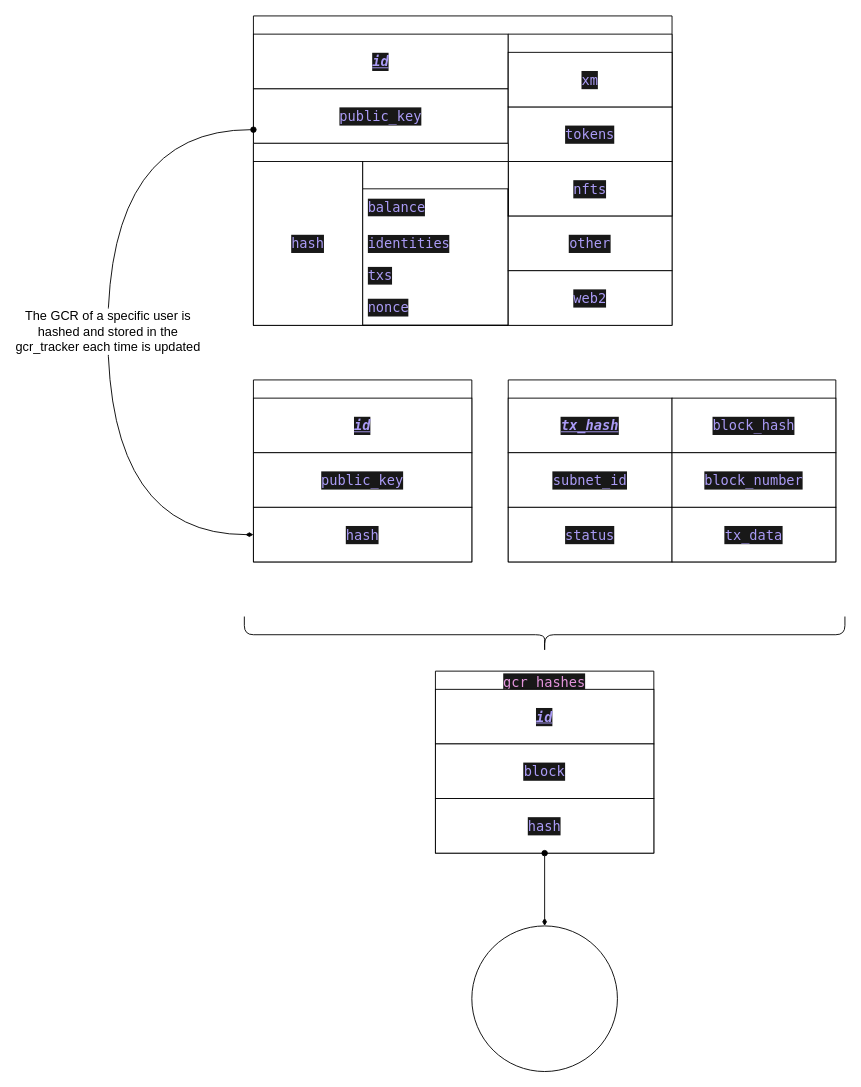
The diagram is 861 pixels wide and 1087 high, and some of its shapes have lost their labels. Each missing label, with the box of its shape:
content: (362, 161, 508, 325)
details: (253, 142, 508, 325)
extended: (507, 33, 672, 216)
gcr_tracker: (253, 379, 472, 562)
global_change_registry: (253, 15, 672, 325)
global_change_registry_subnets_txs: (507, 379, 836, 562)
Hashes of the two GCR Tables are obtained by calling hashGCRTables: (471, 925, 617, 1072)
